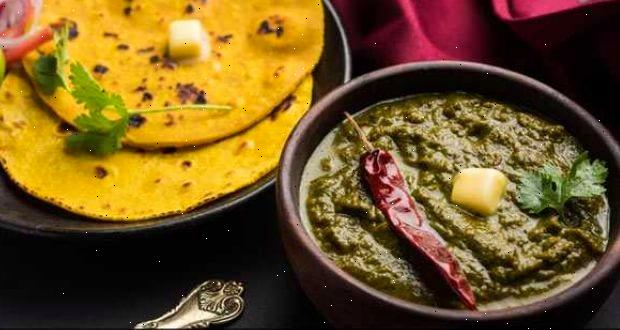saag: (310, 97, 611, 302)
